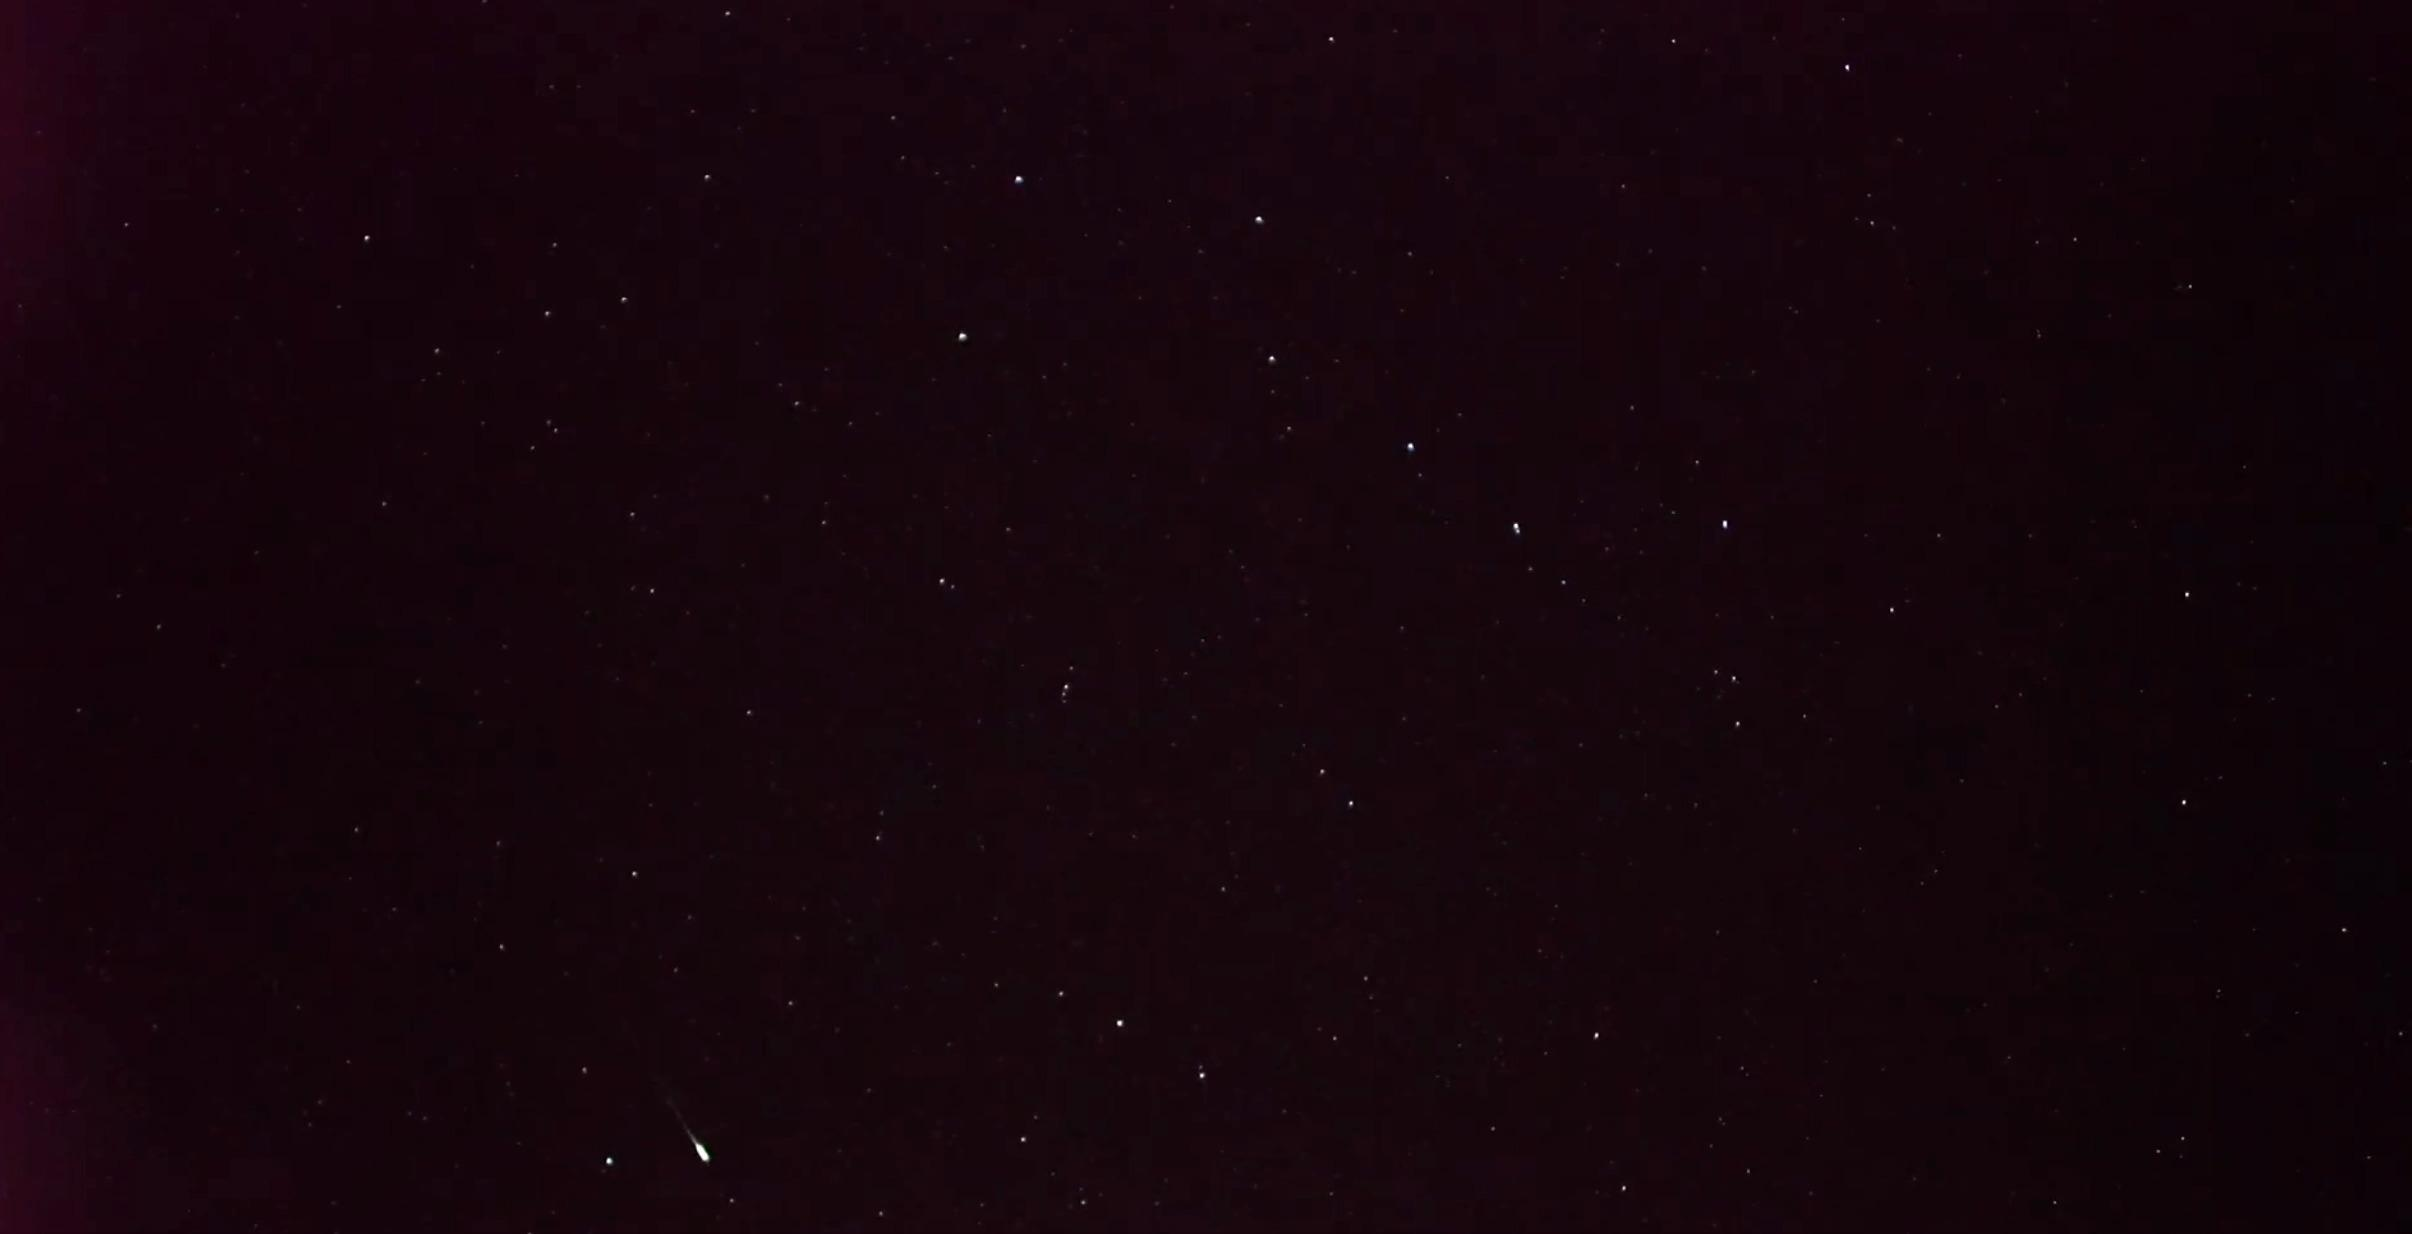meteorite: (634, 1092, 747, 1179)
